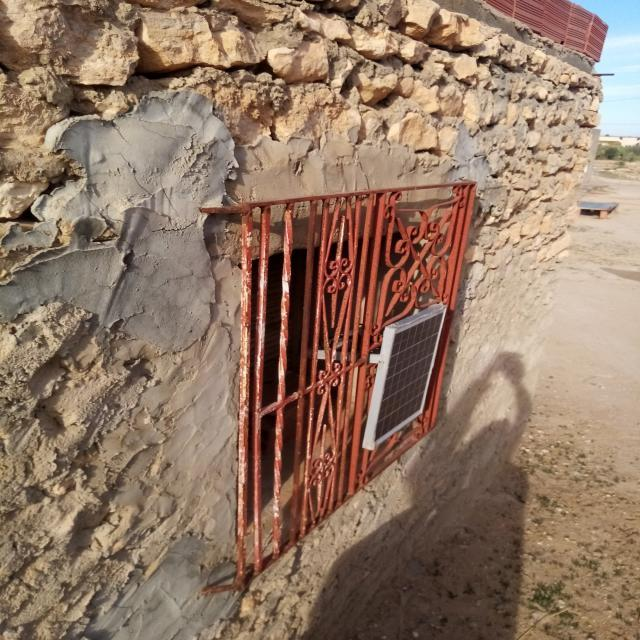no faulty: (372, 307, 446, 449)
